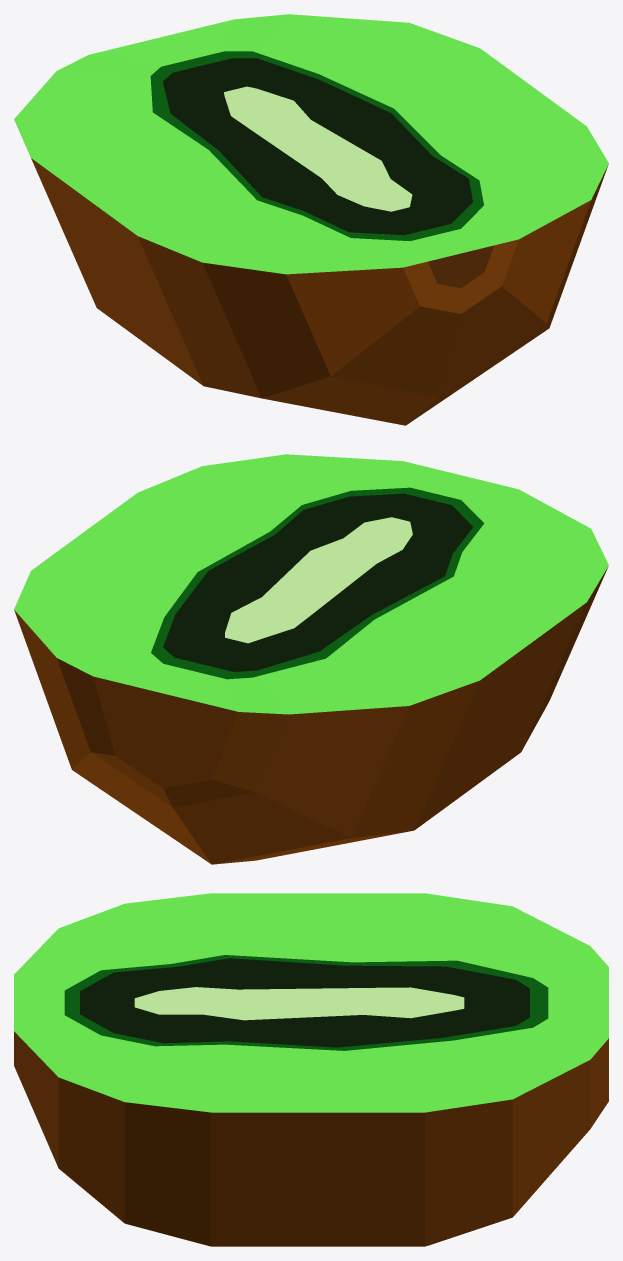
File: kiwi02.gltf
The picture shows the model from 3 angles, top to bottom: view 1: azimuth 30°, elevation 25°; view 2: azimuth 150°, elevation 25°; view 3: azimuth 270°, elevation 25°; orthographic projection.
Parts seen in each view (by area): view 1: Cylinder.001; view 2: Cylinder.001; view 3: Cylinder.001.
Part boxes in pixels (<box>): Cylinder.001: <box>14,14,608,425</box>; Cylinder.001: <box>14,454,608,864</box>; Cylinder.001: <box>14,893,608,1246</box>.
Bounding box in the file's own units: 0.0522 × 0.0261 × 0.0599.
1 material, 1 textured.
